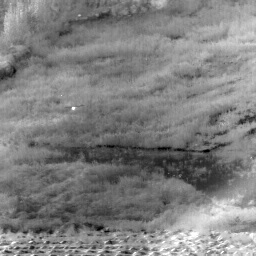aircraft: (72, 108, 74, 110)
